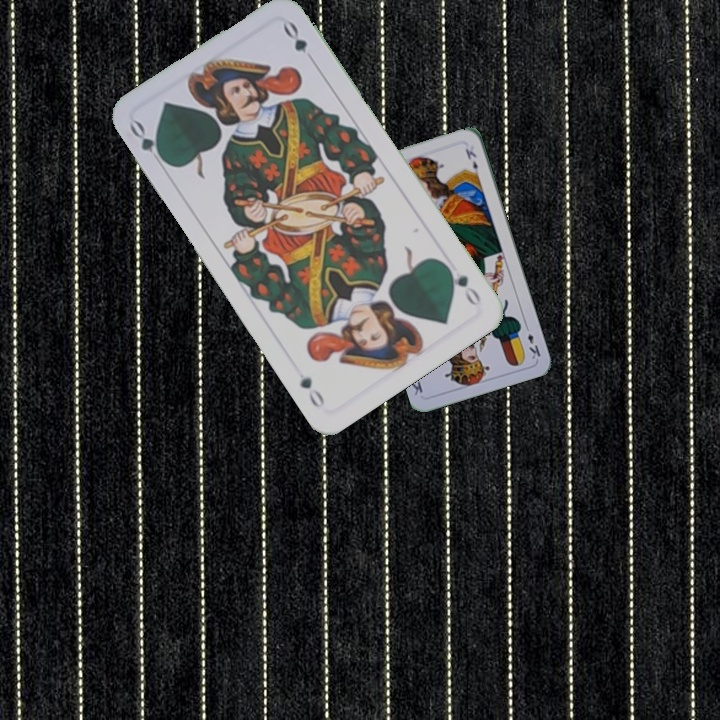EK: (521, 321, 543, 362)
GO: (125, 116, 171, 171), (441, 260, 484, 310)
